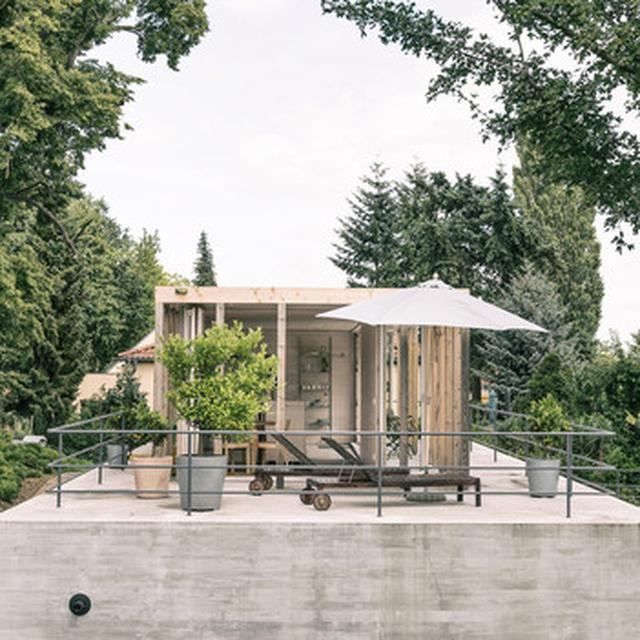building: (153, 279, 481, 484)
